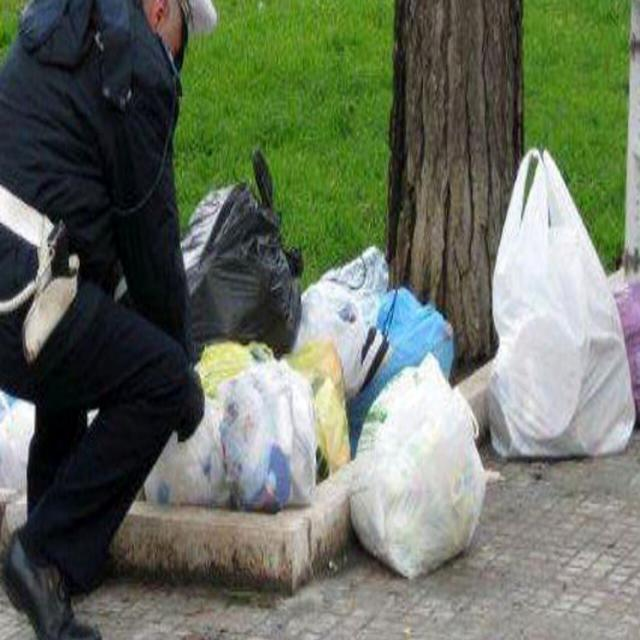garbage: (200, 124, 629, 596)
